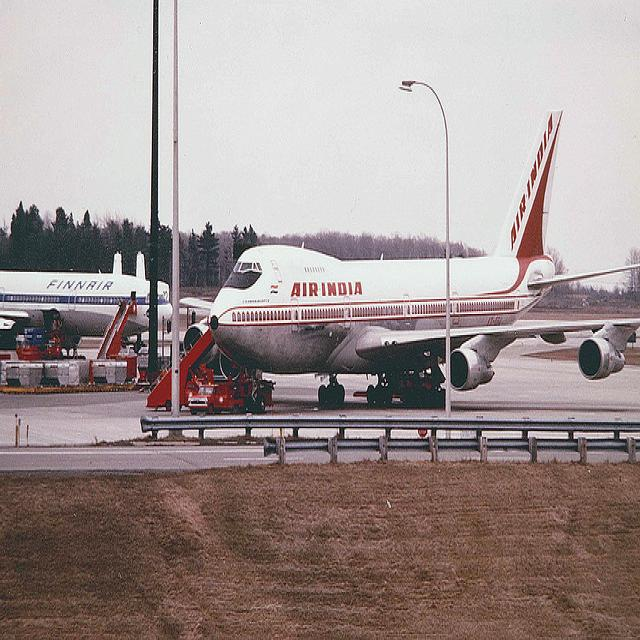Vehicle: (189, 384, 244, 415)
